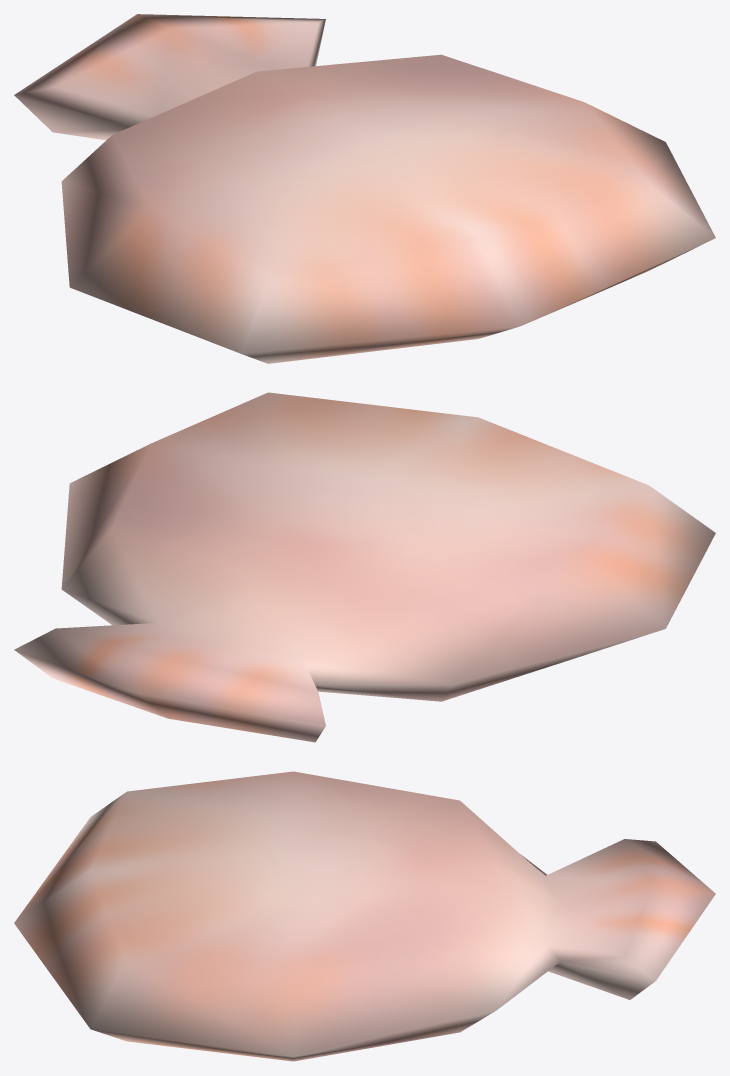
Rendered from shell.glb.
The picture shows the model from 3 angles, top to bottom: view 1: azimuth 30°, elevation 25°; view 2: azimuth 150°, elevation 25°; view 3: azimuth 270°, elevation 25°; orthographic projection. The views are drawn at different scales.
Visible parts, largest first — view 1: Shell; view 2: Shell; view 3: Shell.
Boxes of the visible parts, bbox=[...] form: Shell: bbox=[14, 14, 715, 363]; Shell: bbox=[14, 392, 715, 742]; Shell: bbox=[14, 771, 715, 1061].
Bounding box in the file's own units: 0.2675 × 0.0592 × 0.2976.
1 material, 1 textured.
